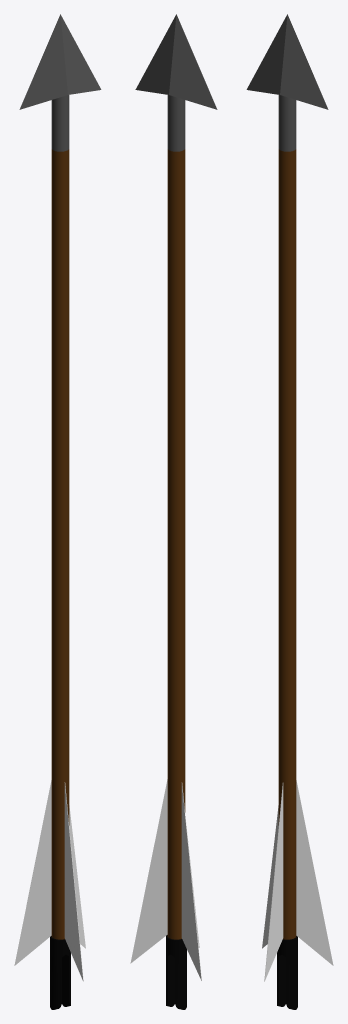
Rendered from Arrow_V1.fbx.
3 views of the same model, side by side, from view 1: azimuth 30°, elevation 25°; view 2: azimuth 150°, elevation 25°; view 3: azimuth 330°, elevation 25° (orthographic).
Visible parts, largest first — view 1: Circle; view 2: Circle; view 3: Circle.
Part boxes in pixels (x1,y1,x2,y2): Circle: [14, 14, 101, 1009]; Circle: [130, 14, 217, 1009]; Circle: [246, 14, 333, 1009].
Bounding box in the file's own units: 32.89 × 380 × 23.23.
